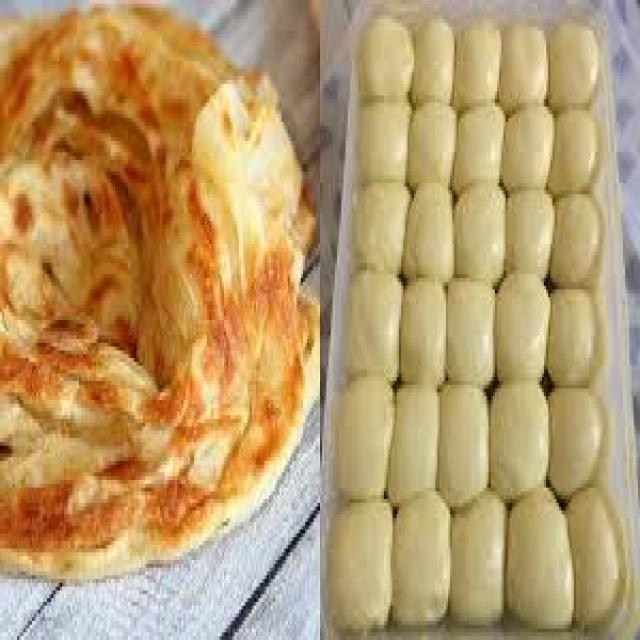Paratha: (0, 4, 319, 580)
